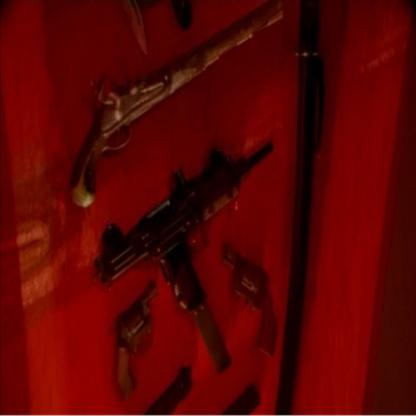Gun: (69, 0, 293, 415)
